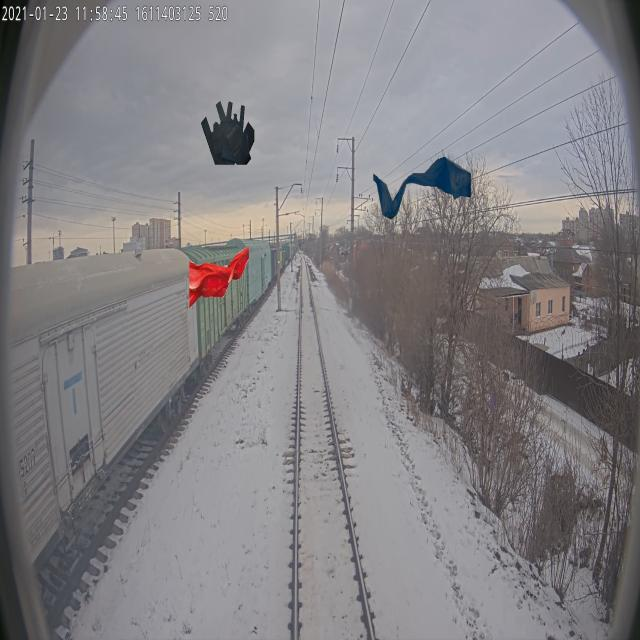floating object: (373, 156, 472, 220), (189, 246, 249, 310)
plastic bag: (200, 100, 254, 164)
